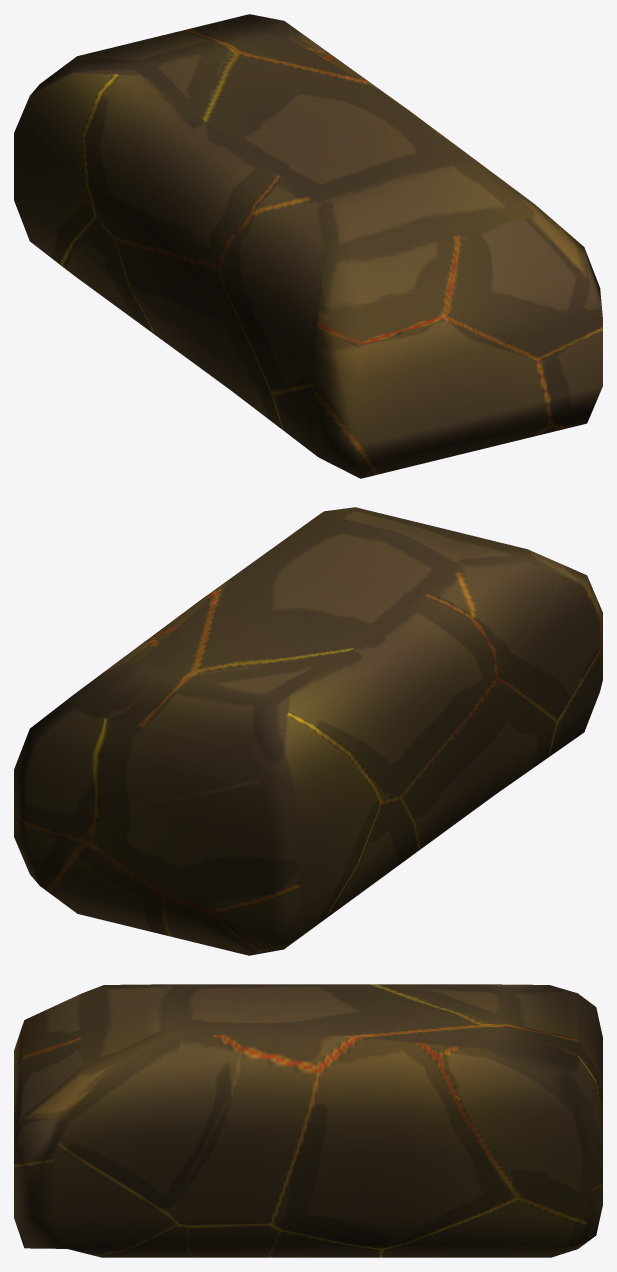
Rendered from Moonset_FBX_KyuFoot_Corrompu001.fbx.
The picture shows the model from 3 angles, top to bottom: view 1: azimuth 30°, elevation 25°; view 2: azimuth 150°, elevation 25°; view 3: azimuth 270°, elevation 25°; orthographic projection. The views are drawn at different scales.
Visible parts, largest first — view 1: kyuCorrompuFoot_mesh; view 2: kyuCorrompuFoot_mesh; view 3: kyuCorrompuFoot_mesh.
Boxes of the visible parts, x1,y1,x2,y2 form: kyuCorrompuFoot_mesh: (14,14,602,478); kyuCorrompuFoot_mesh: (14,507,602,955); kyuCorrompuFoot_mesh: (14,984,602,1257).
Bounding box in the file's own units: 0.302 × 0.2471 × 0.6046.
